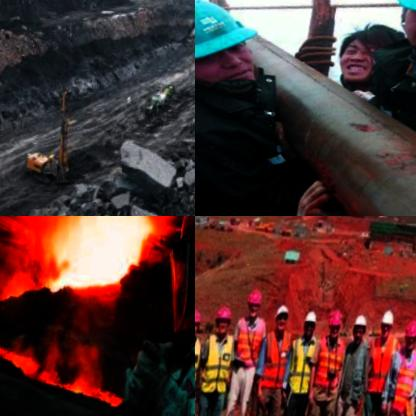helmet: (195, 0, 285, 121), (158, 216, 195, 320), (371, 309, 396, 355), (268, 301, 294, 342), (319, 309, 345, 350), (207, 303, 232, 343), (346, 314, 371, 354), (241, 288, 266, 326), (397, 322, 416, 361), (299, 310, 318, 345), (195, 305, 203, 345)
